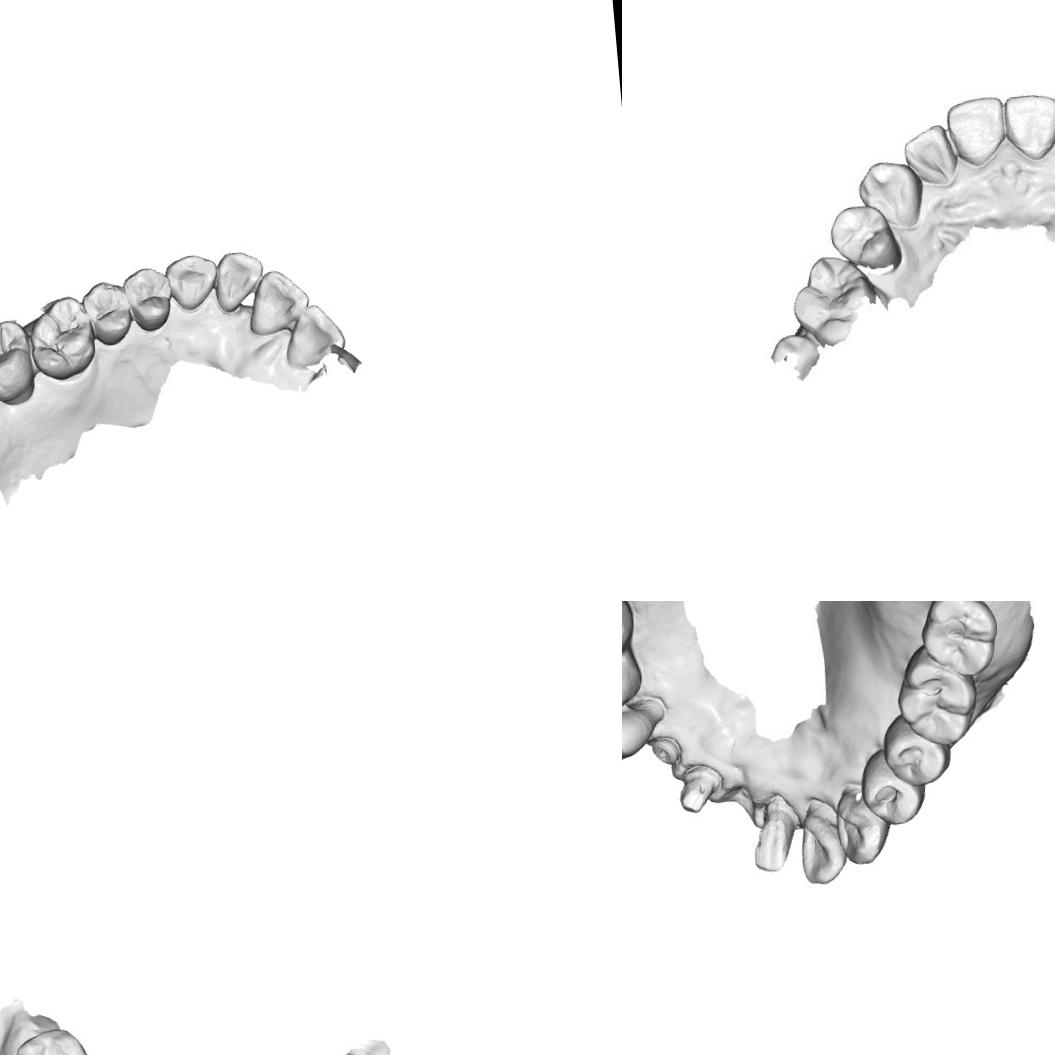canine: (853, 154, 927, 229), (162, 245, 222, 314), (833, 791, 886, 868)
crown: (746, 798, 798, 874), (674, 762, 725, 816)
implant_minus: (648, 734, 682, 766)
incisor: (241, 266, 313, 339), (941, 94, 1011, 165), (279, 300, 346, 371), (793, 797, 846, 886), (898, 122, 962, 191), (999, 87, 1055, 159), (208, 246, 267, 314)
molar: (892, 642, 980, 751), (787, 251, 876, 349), (22, 291, 100, 384), (915, 601, 1001, 679), (0, 317, 38, 407), (5, 1022, 99, 1055)
premolar: (880, 709, 955, 789), (857, 745, 927, 828), (826, 200, 903, 272), (119, 264, 177, 336), (78, 280, 134, 350), (622, 704, 652, 768), (622, 657, 645, 720)
